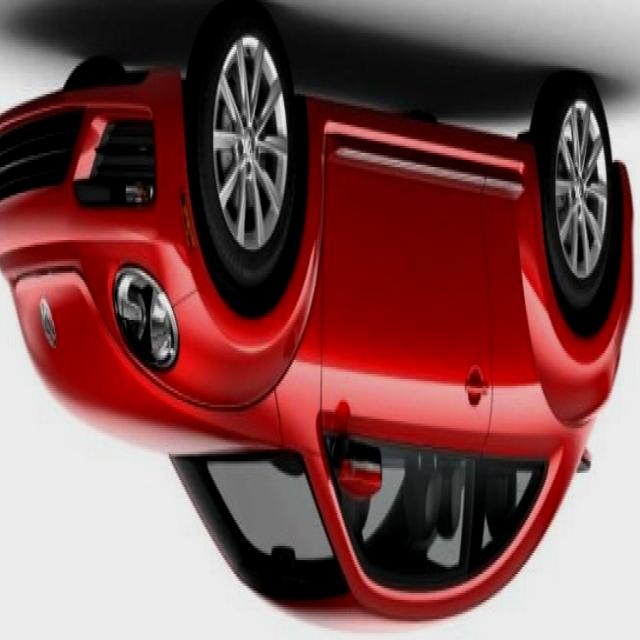red: (3, 60, 640, 624)
